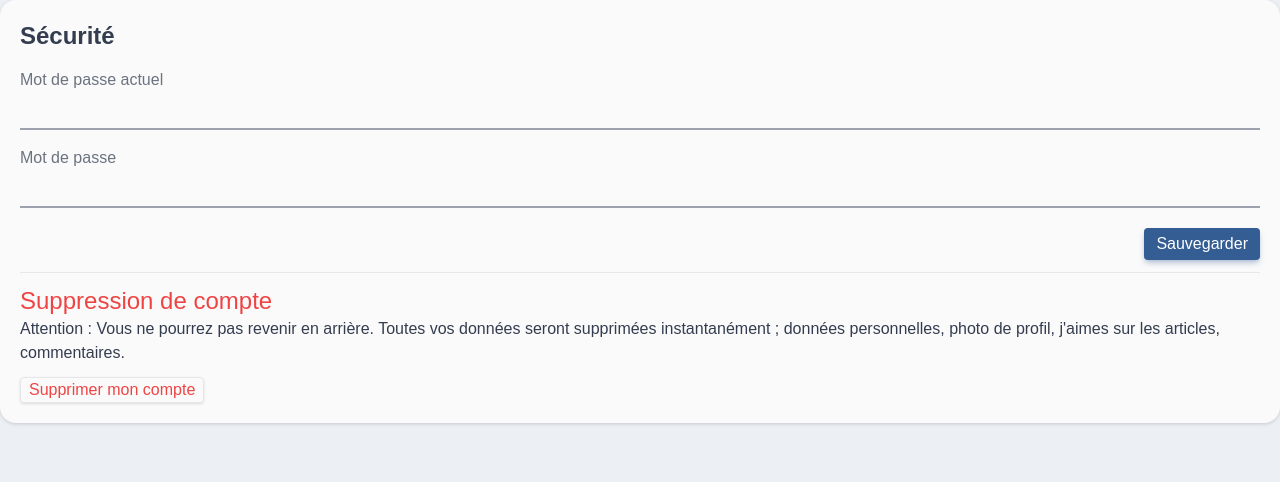
Scenario: Security View › should update the user password
Type "new_password" into the password field labelled "Mot de passe" at (640, 193), box [20, 178, 1260, 208]
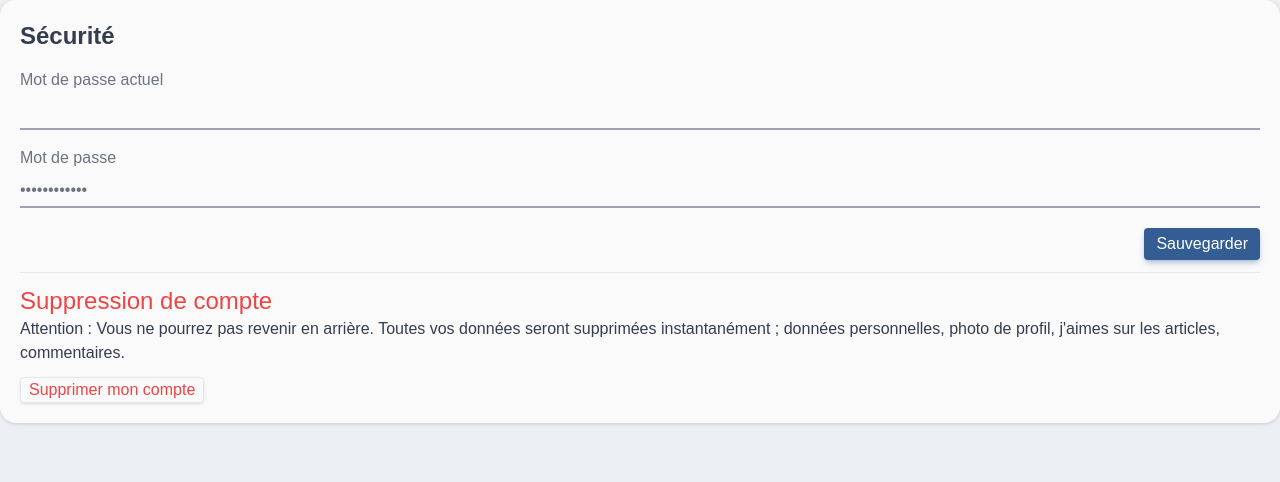
Type "current_password" into the password field labelled "Mot de passe actuel" at (640, 115), box [20, 100, 1260, 130]
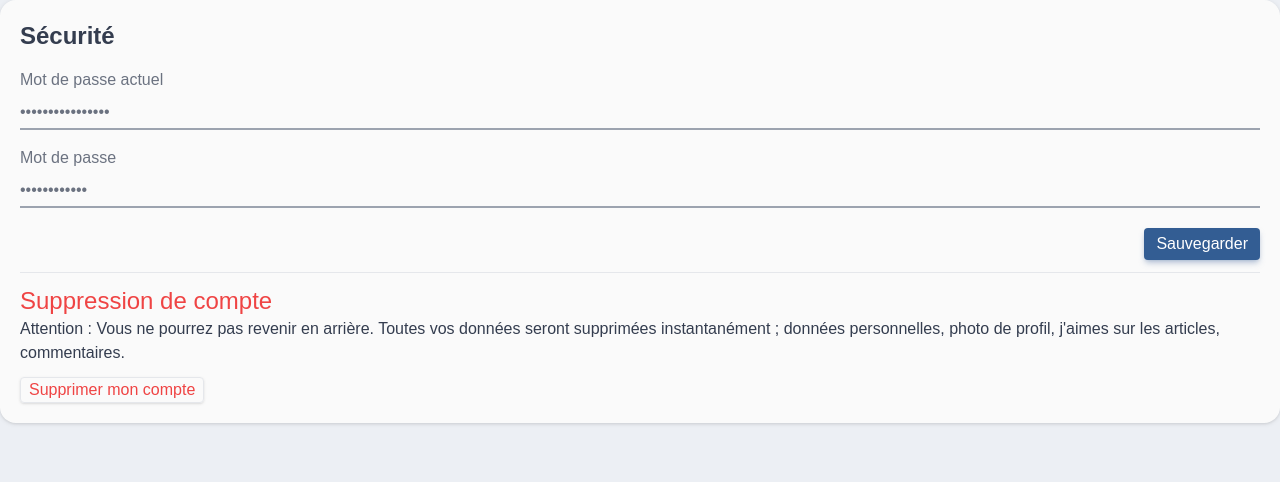
Click the button "Sauvegarder" at (1202, 244), box [1144, 228, 1260, 260]
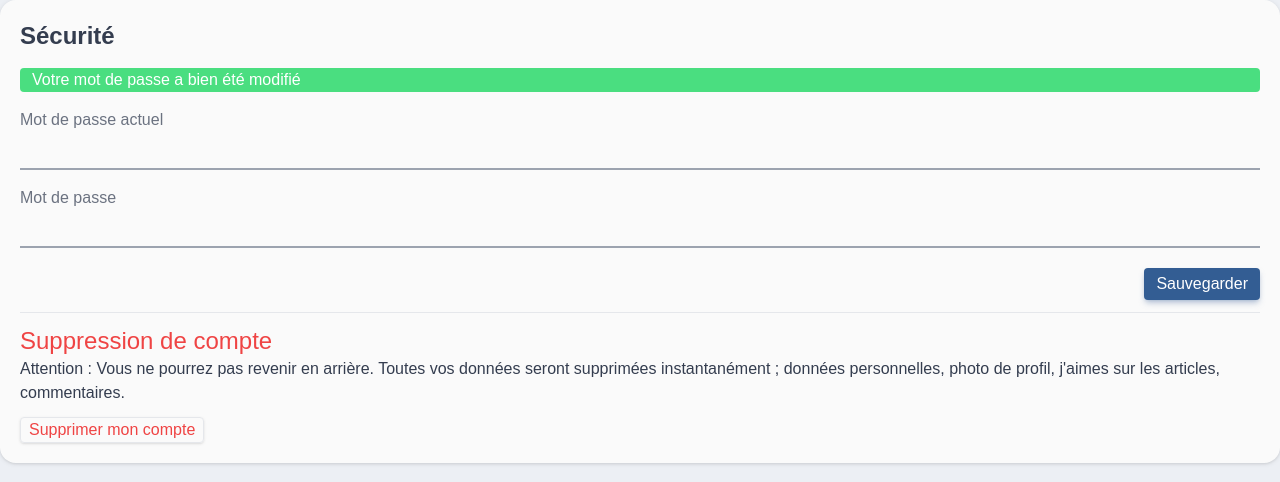
Expected: the text "Votre mot de passe a bien été modifié" is shown, [20, 68, 1260, 92]
Expected: the password field labelled "Mot de passe" is empty, [20, 218, 1260, 248]
Expected: the password field labelled "Mot de passe actuel" is empty, [20, 140, 1260, 170]
